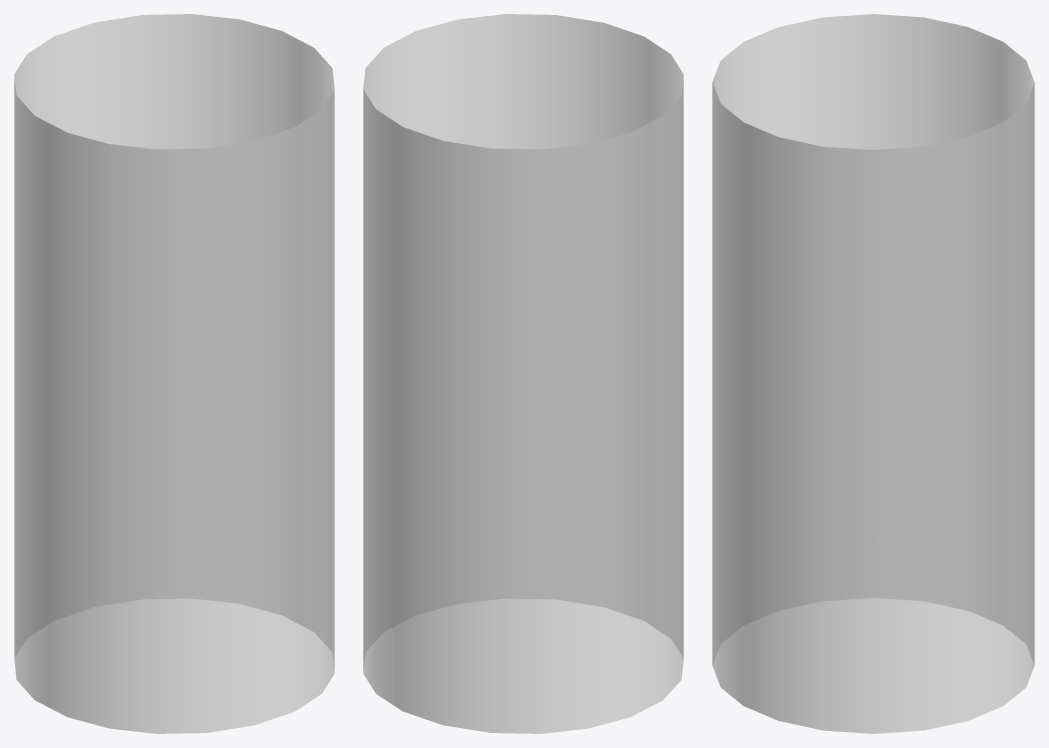
The model's file is G01_030_PipeD.fbx.
The picture shows the model from 3 angles, left to right: view 1: azimuth 30°, elevation 25°; view 2: azimuth 150°, elevation 25°; view 3: azimuth 270°, elevation 25°; orthographic projection.
Parts seen in each view (by area): view 1: Line.001; view 2: Line.001; view 3: Line.001.
Part boxes in pixels (x1,y1,x2,y2): Line.001: (14, 14, 334, 733); Line.001: (363, 14, 683, 733); Line.001: (712, 14, 1034, 733).
Size of the model in its own units: 50 by 100 by 50.
